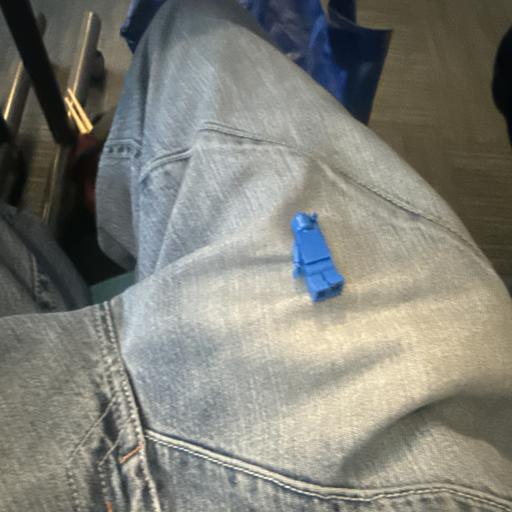Minifig: (291, 212, 344, 302)
